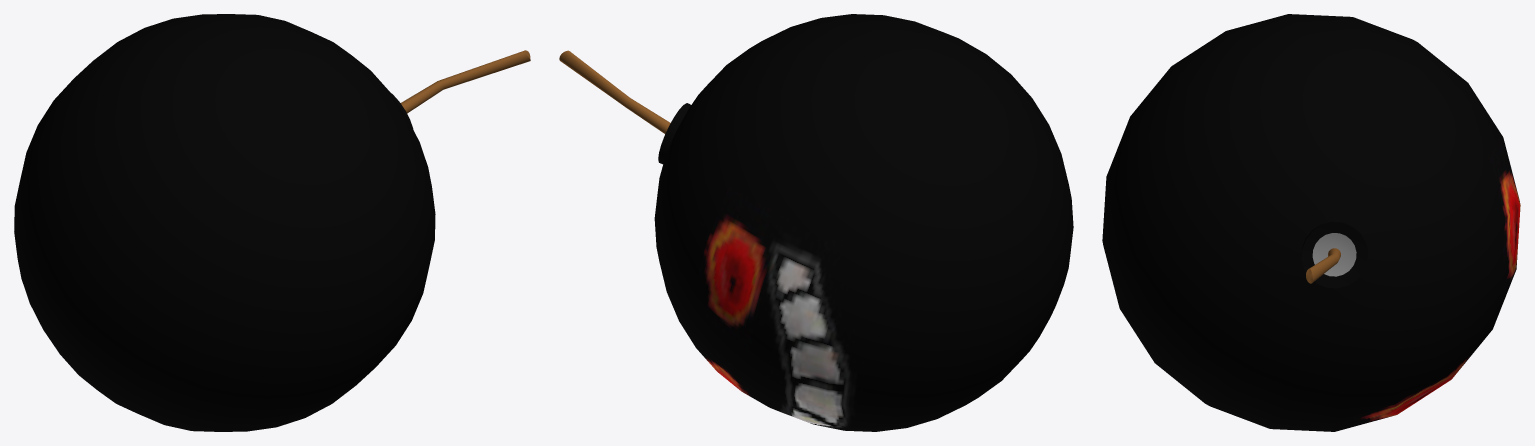
The model's file is Bomb_Roll.FBX.
3 renders of one model, left to right at view 1: azimuth 30°, elevation 25°; view 2: azimuth 150°, elevation 25°; view 3: azimuth 270°, elevation 25°, orthographic.
Parts seen in each view (by area): view 1: pSphere1; view 2: pSphere1; view 3: pSphere1.
Boxes of the visible parts, <box> form: pSphere1: <box>14,14,530,431</box>; pSphere1: <box>559,14,1073,431</box>; pSphere1: <box>1102,14,1520,431</box>.
Bounding box in the file's own units: 8.3 × 6.19 × 6.17.
